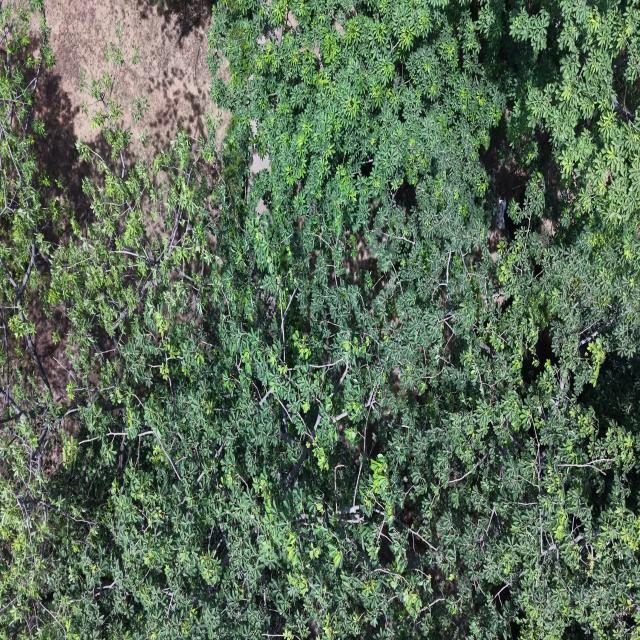DRY_AREA: (35, 0, 230, 223), (35, 0, 229, 220), (38, 0, 230, 190), (37, 0, 228, 186), (46, 0, 210, 147), (479, 134, 532, 262)
VEGETATION_TREE: (0, 0, 639, 639)
